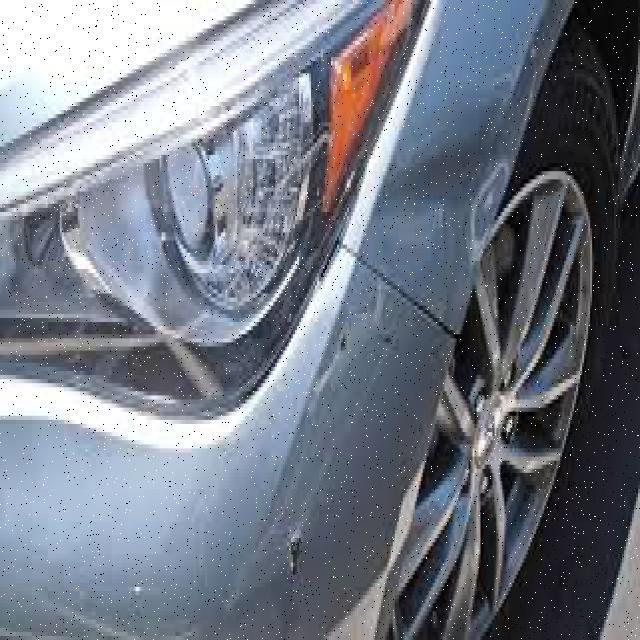front-bumper-dent: (0, 240, 442, 636)
